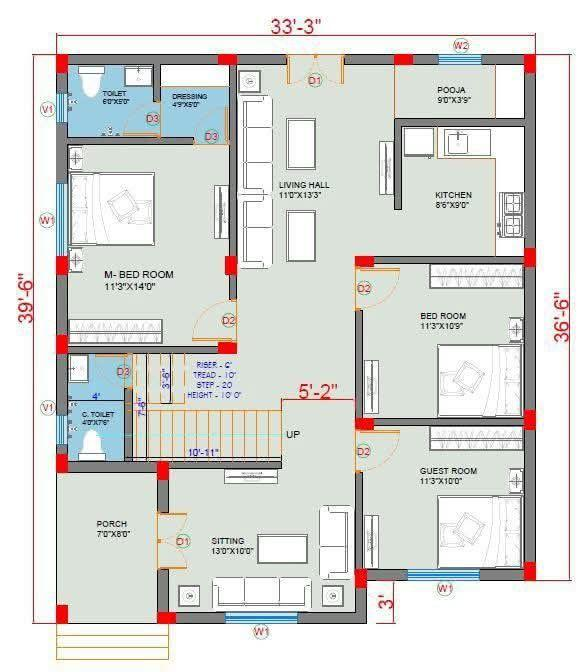Blueprint: (47, 44, 549, 641)
